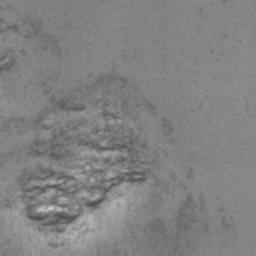Iron sheet ash: (19, 73, 159, 236), (0, 46, 17, 72)
